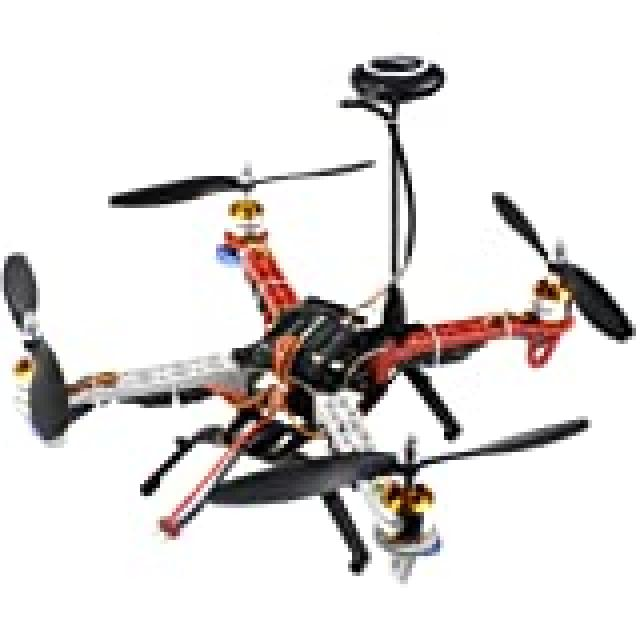drone: (12, 108, 640, 624)
